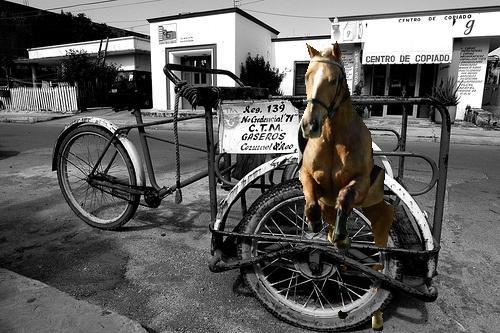tampered: (298, 42, 394, 331)
